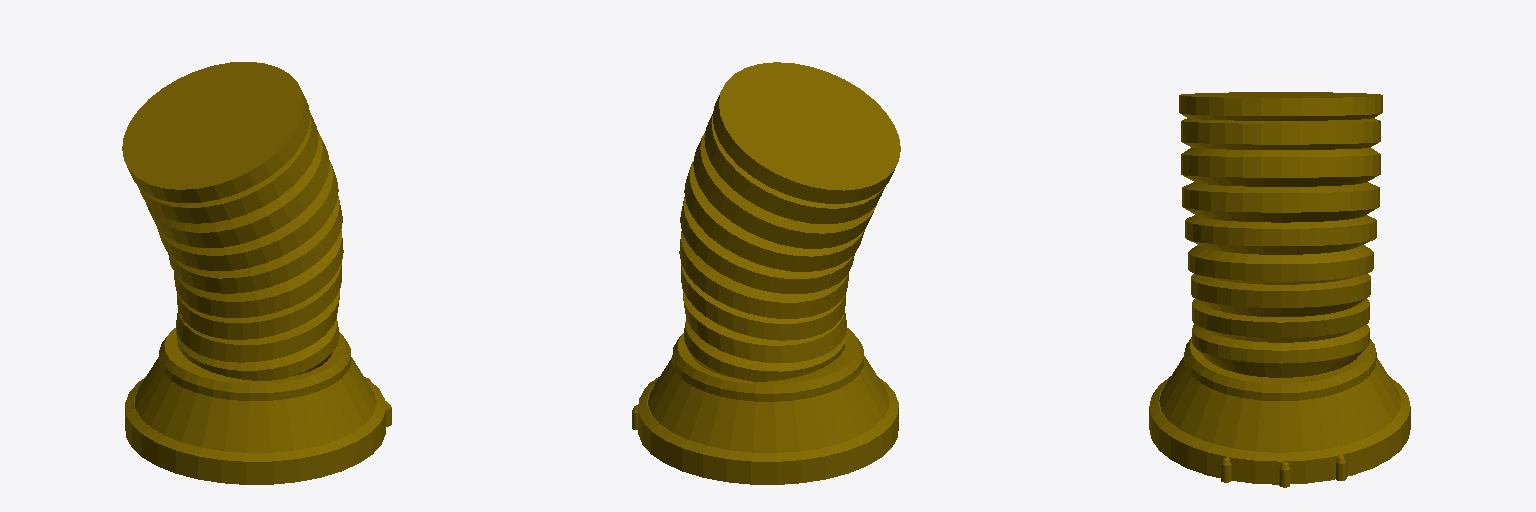
File: goddard_pata03.obj
3 views of the same model, side by side, from view 1: azimuth 30°, elevation 25°; view 2: azimuth 150°, elevation 25°; view 3: azimuth 270°, elevation 25° (orthographic).
Parts seen in each view (by area): view 1: goddard_pata03; view 2: goddard_pata03; view 3: goddard_pata03.
Boxes of the visible parts, box(x1,y1,x2,y2) form: goddard_pata03: box(122, 62, 391, 484); goddard_pata03: box(632, 62, 900, 484); goddard_pata03: box(1149, 92, 1410, 487).
Size of the model in its own units: 1.07 by 1.51 by 1.03.